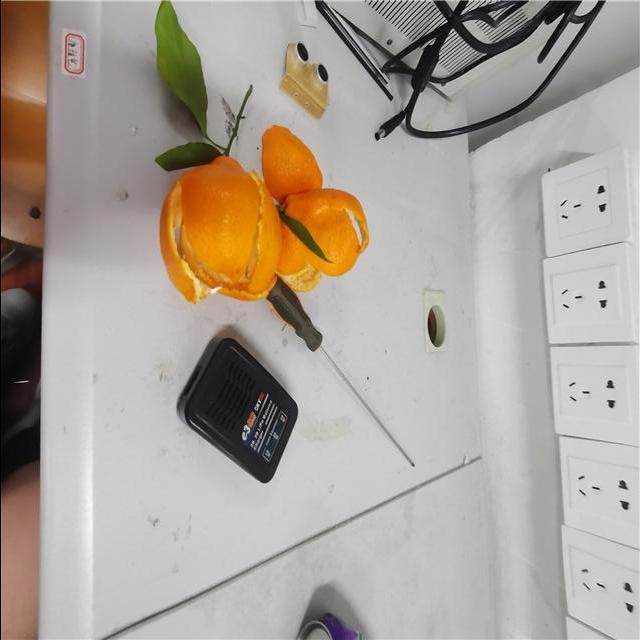orange peel: (155, 156, 281, 306), (278, 187, 372, 290), (258, 123, 322, 205)
